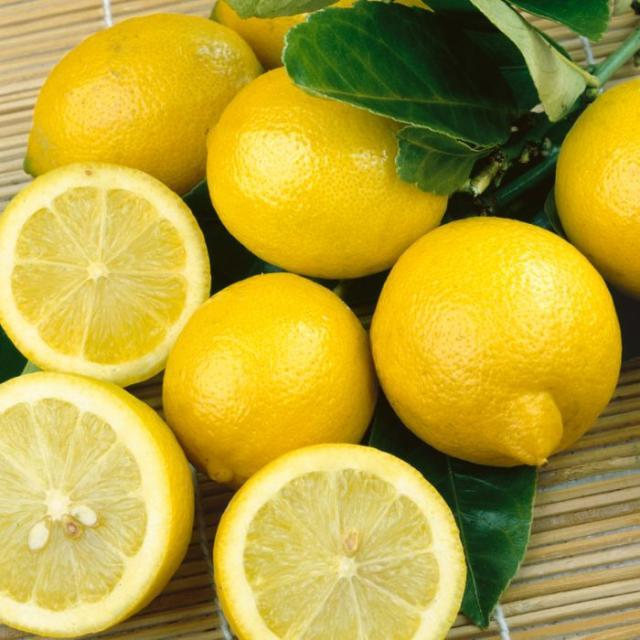lemon: (363, 210, 630, 471), (189, 447, 473, 640), (0, 370, 201, 640), (196, 68, 458, 269), (157, 274, 386, 481), (0, 165, 212, 370), (18, 19, 258, 189)
